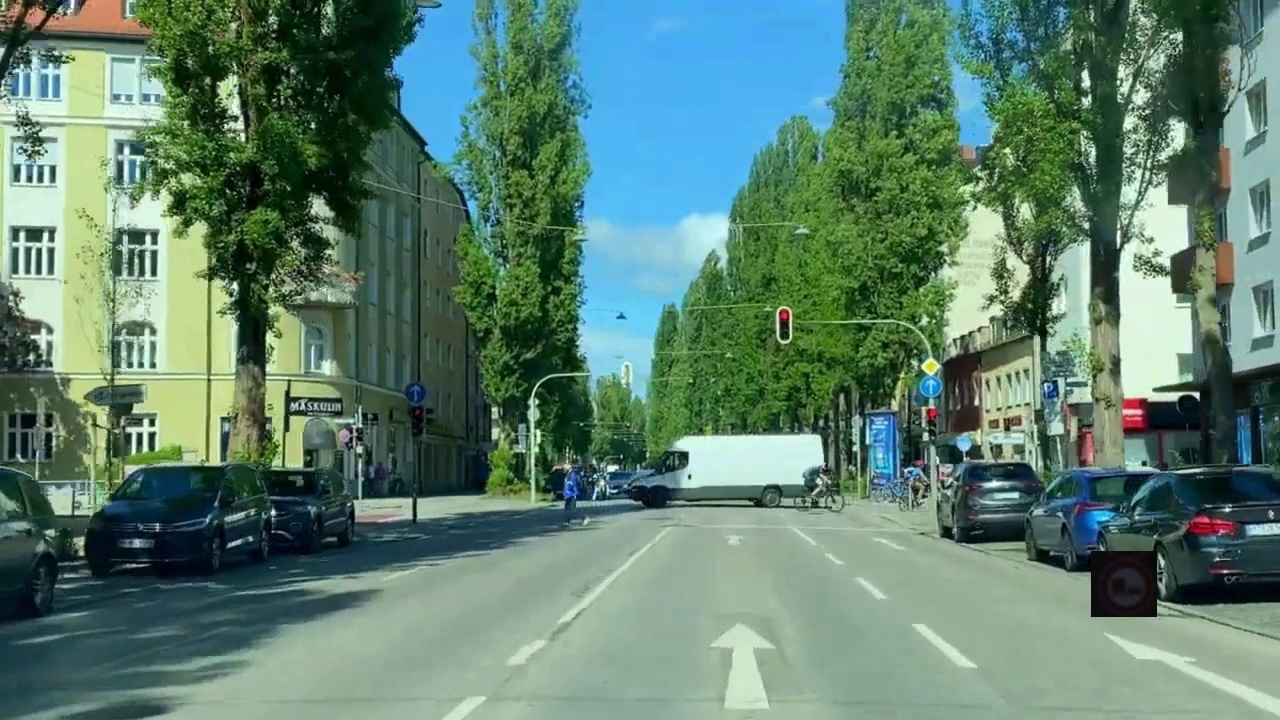No pass >3.5t: (1091, 551, 1157, 617)
